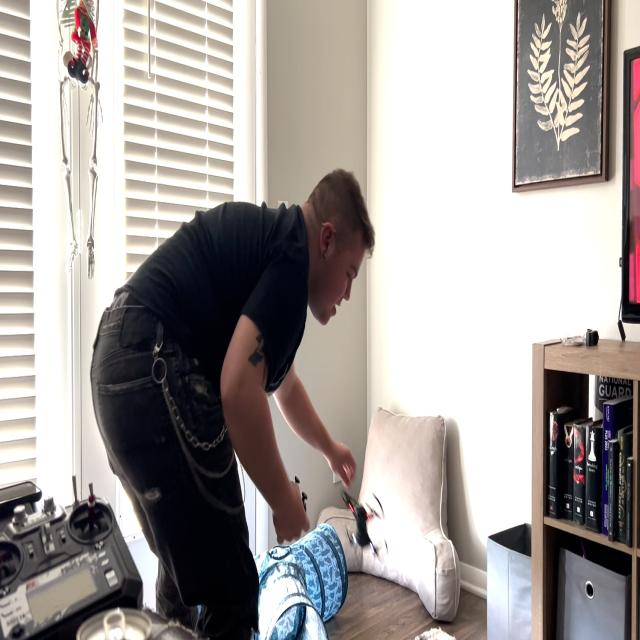drone: (332, 474, 392, 578)
